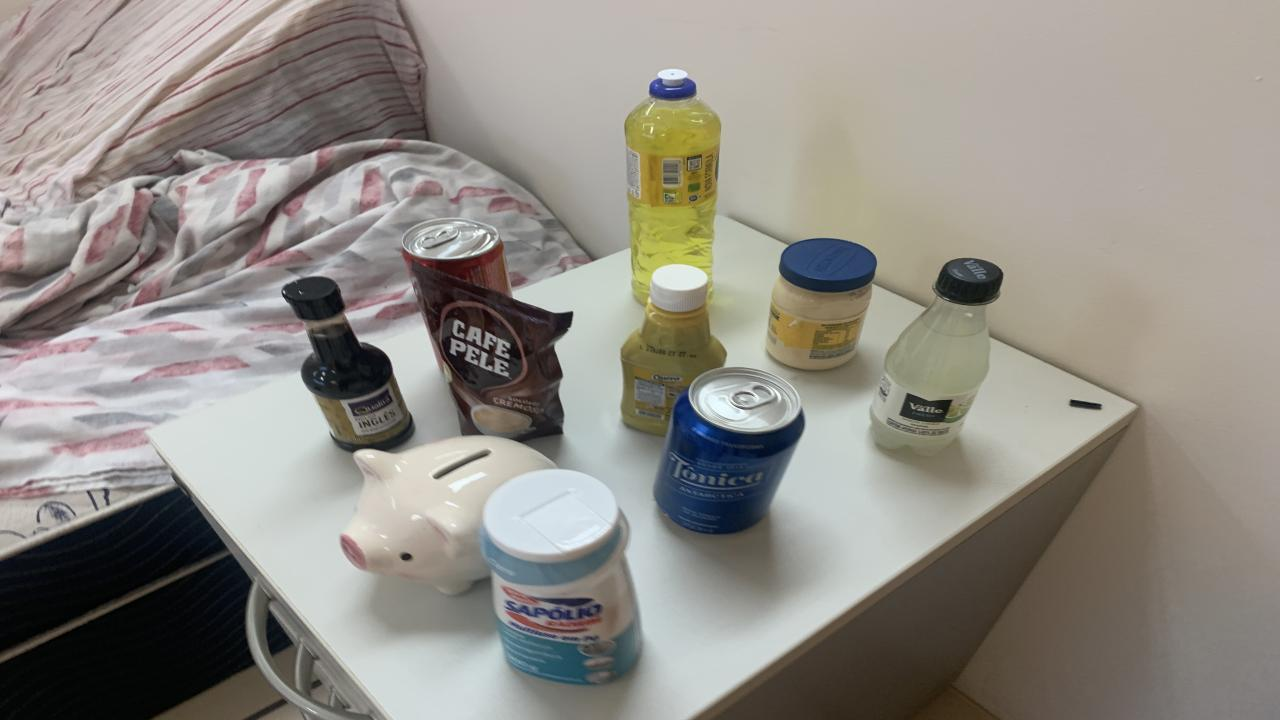Cleaner-Cleanup_Items: (480, 469, 640, 684)
Coffee-Pantry_Items: (412, 262, 572, 441)
Detergent-Cleanup_Items: (625, 69, 720, 304)
English_Sauce-Pantry_Items: (282, 278, 415, 450)
Mayonnaise-Pantry_Items: (765, 238, 875, 369)
Mustard-Pantry_Items: (620, 264, 725, 435)
Pig_Safe-Miscellaneous: (340, 435, 555, 594)
Soda-Drinks: (870, 259, 1002, 456)
Tonic-Drinks: (655, 368, 805, 534)
